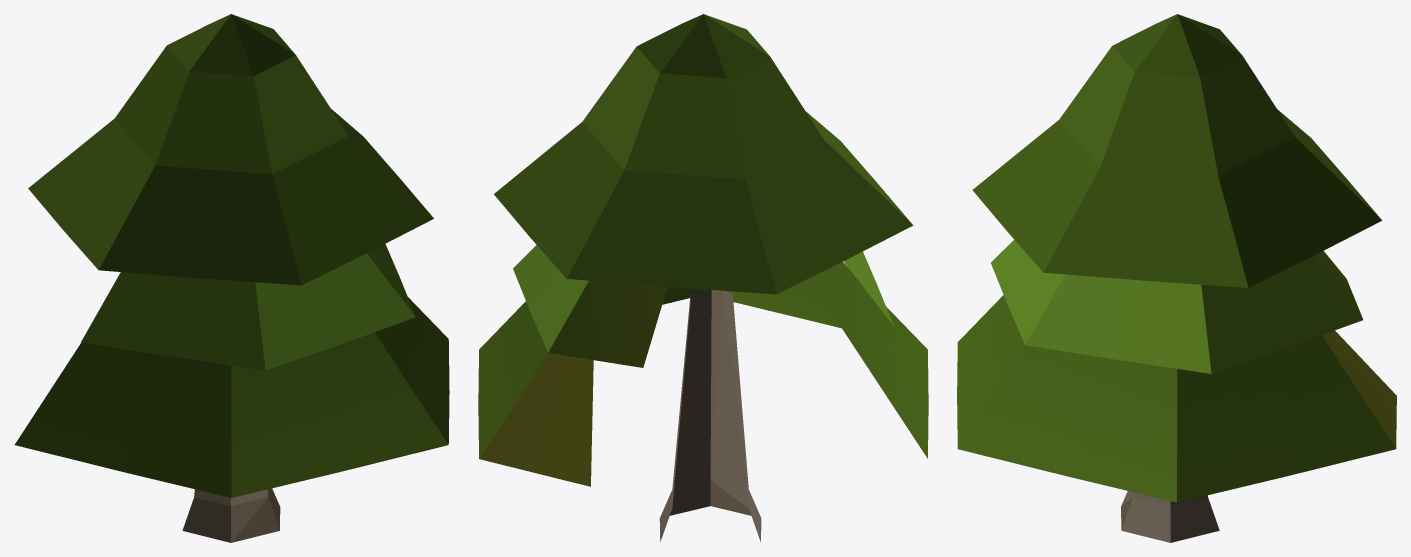
File: forest09.fbx
The picture shows the model from 3 angles, left to right: view 1: azimuth 30°, elevation 25°; view 2: azimuth 150°, elevation 25°; view 3: azimuth 270°, elevation 25°; orthographic projection. The views are drawn at different scales.
Parts seen in each view (by area): view 1: forest09; view 2: forest09; view 3: forest09.
Boxes of the visible parts, <box> form: forest09: <box>14,14,449,542</box>; forest09: <box>478,14,928,542</box>; forest09: <box>957,14,1396,542</box>.
Size of the model in its own units: 1.41 by 1.56 by 1.23.
Materials: 1 (1 with a texture image).
